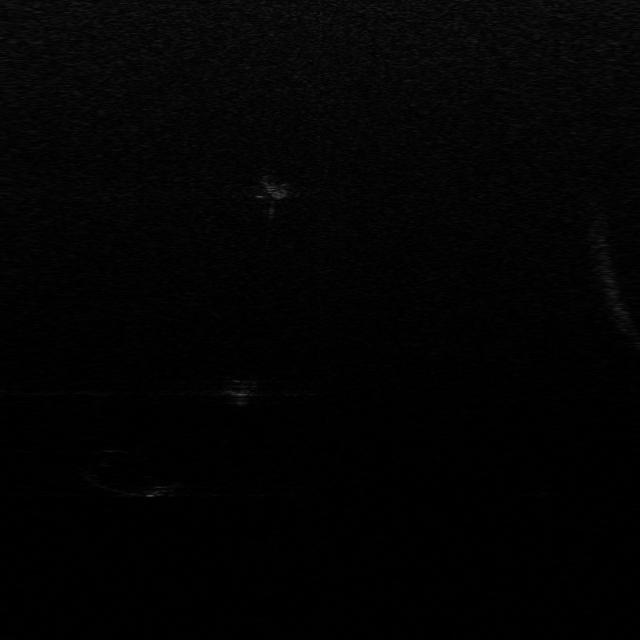cube: (220, 376, 260, 408)
square cage: (250, 174, 290, 200)
tyre: (79, 444, 183, 499)
